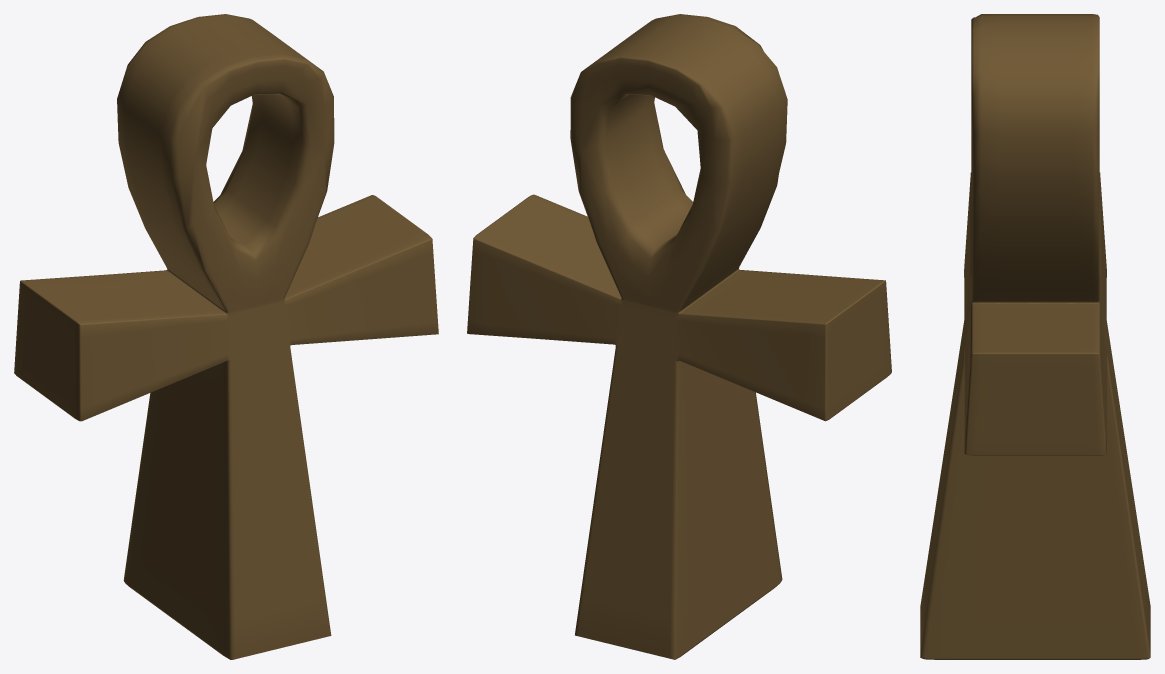
File: symbol1.fbx
The picture shows the model from 3 angles, left to right: view 1: azimuth 30°, elevation 25°; view 2: azimuth 150°, elevation 25°; view 3: azimuth 270°, elevation 25°; orthographic projection. The views are drawn at different scales.
Visible parts, largest first — view 1: symbol1; view 2: symbol1; view 3: symbol1.
Boxes of the visible parts, bbox=[...] form: symbol1: bbox=[14, 14, 438, 659]; symbol1: bbox=[467, 14, 891, 659]; symbol1: bbox=[920, 14, 1150, 659].
Bounding box in the file's own units: 41.51 × 62.98 × 21.72.
